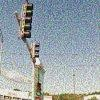traffic lights: (20, 1, 34, 41)
